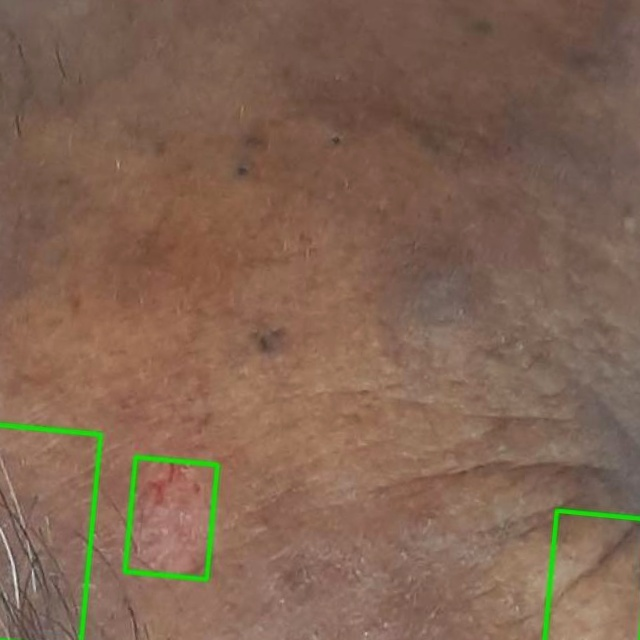Contact Dermatitis: (0, 425, 100, 639), (544, 510, 639, 639), (124, 457, 217, 579)
